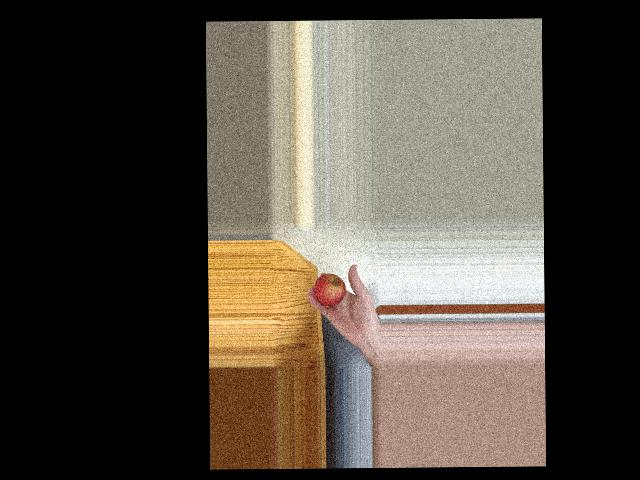apple: (314, 272, 349, 310)
